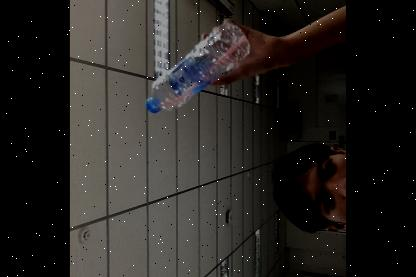Plastic Bottle: (140, 11, 259, 116)
